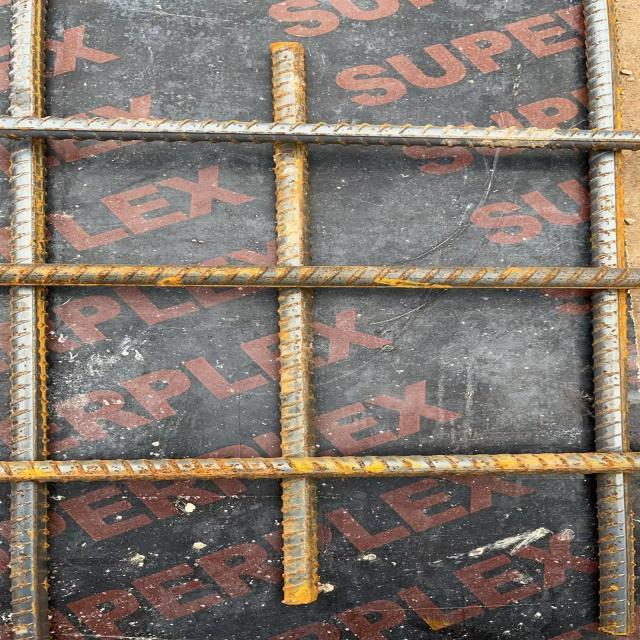ribbed bar: (580, 0, 638, 636), (269, 41, 322, 605), (6, 0, 50, 639), (0, 116, 639, 152), (0, 451, 639, 481), (0, 263, 639, 290)
